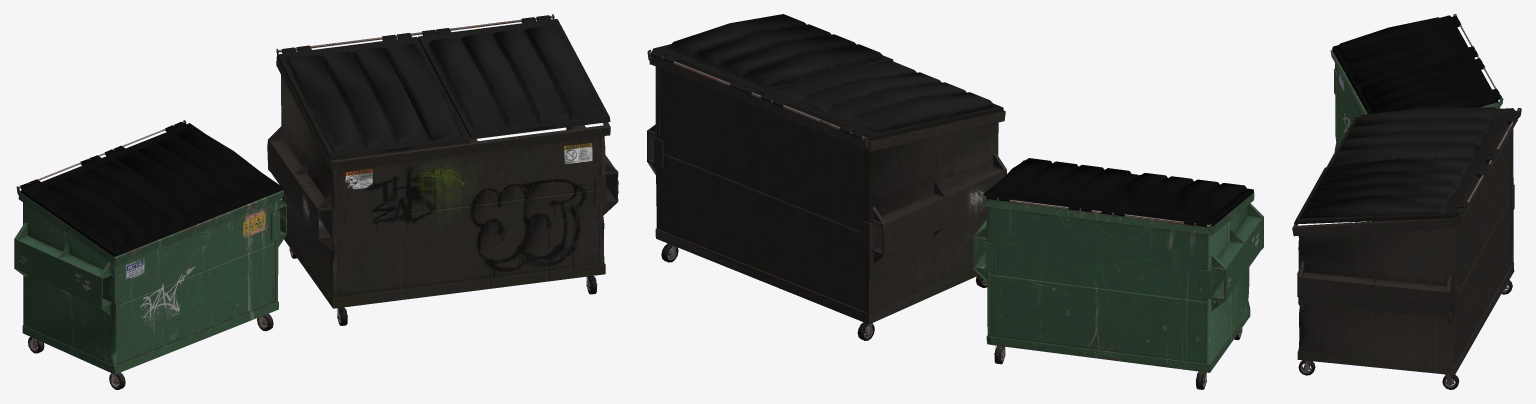
The model's file is dumpster.glb.
The picture shows the model from 3 angles, left to right: view 1: azimuth 30°, elevation 25°; view 2: azimuth 150°, elevation 25°; view 3: azimuth 270°, elevation 25°; orthographic projection. The views are drawn at different scales.
Visible parts, largest first — view 1: 4Y_w; view 2: 4Y_w; view 3: 4Y_w.
Part boxes in pixels (bbox=[...]): 4Y_w: bbox=[14, 14, 618, 389]; 4Y_w: bbox=[647, 14, 1263, 389]; 4Y_w: bbox=[1292, 14, 1521, 389].
Size of the model in its own units: 4.38 by 1.55 by 1.76.
Materials: 2 (2 with a texture image).
